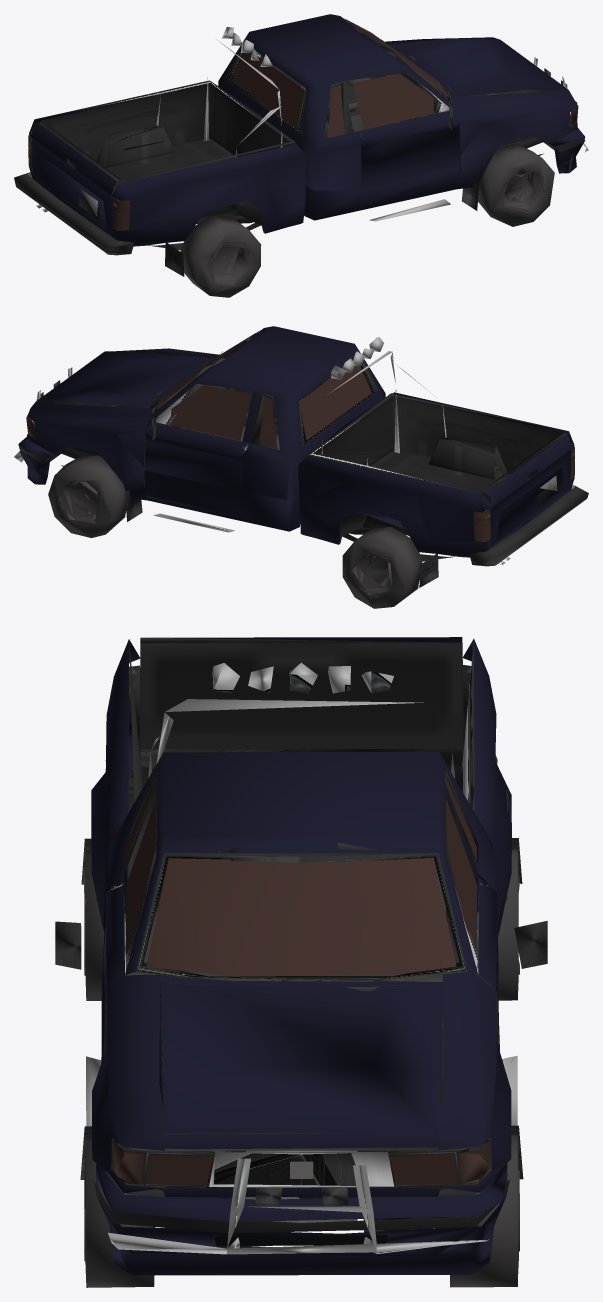
Rendered from car-pickup.pickup-v2.lod1.glb.
3 views of the same model, one above another, from view 1: azimuth 30°, elevation 25°; view 2: azimuth 150°, elevation 25°; view 3: azimuth 270°, elevation 25° (orthographic). The views are drawn at different scales.
Parts seen in each view (by area): view 1: krmlgtbdy85_Body_krmlgtbdy85_Bodymat_0, krmlgtbdy85_Bumper_Rear_UCB_BOTTOM_0; view 2: krmlgtbdy85_Body_krmlgtbdy85_Bodymat_0, krmlgtbdy85_Bumper_Rear_UCB_BOTTOM_0; view 3: krmlgtbdy85_Body_krmlgtbdy85_Bodymat_0, krmlgtbdy85_Bumper_Rear_UCB_BOTTOM_0.
Part boxes in pixels (<box>): krmlgtbdy85_Body_krmlgtbdy85_Bodymat_0: <box>28,14,585,297</box>; krmlgtbdy85_Bumper_Rear_UCB_BOTTOM_0: <box>14,27,588,276</box>; krmlgtbdy85_Body_krmlgtbdy85_Bodymat_0: <box>18,326,574,608</box>; krmlgtbdy85_Bumper_Rear_UCB_BOTTOM_0: <box>14,337,588,587</box>; krmlgtbdy85_Body_krmlgtbdy85_Bodymat_0: <box>84,637,519,1287</box>; krmlgtbdy85_Bumper_Rear_UCB_BOTTOM_0: <box>55,637,547,1254</box>.
Bounding box in the file's own units: 4.88 × 1.89 × 2.1.
Materials: 2 (1 with a texture image).
